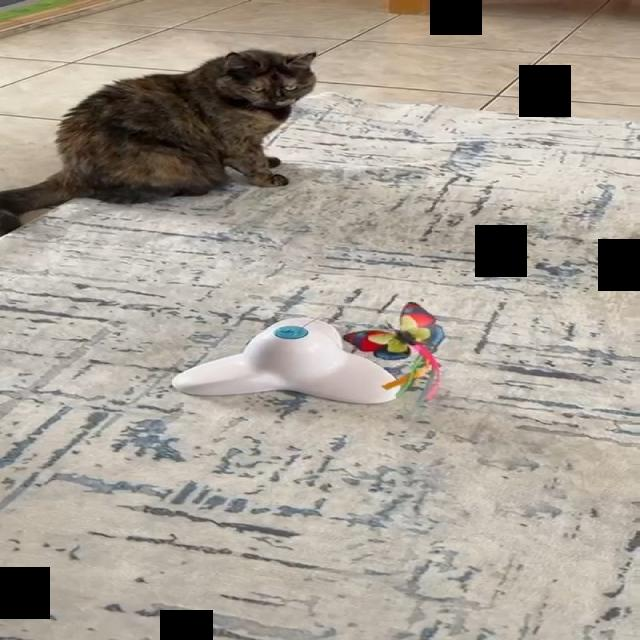authorized: (0, 47, 317, 238)
